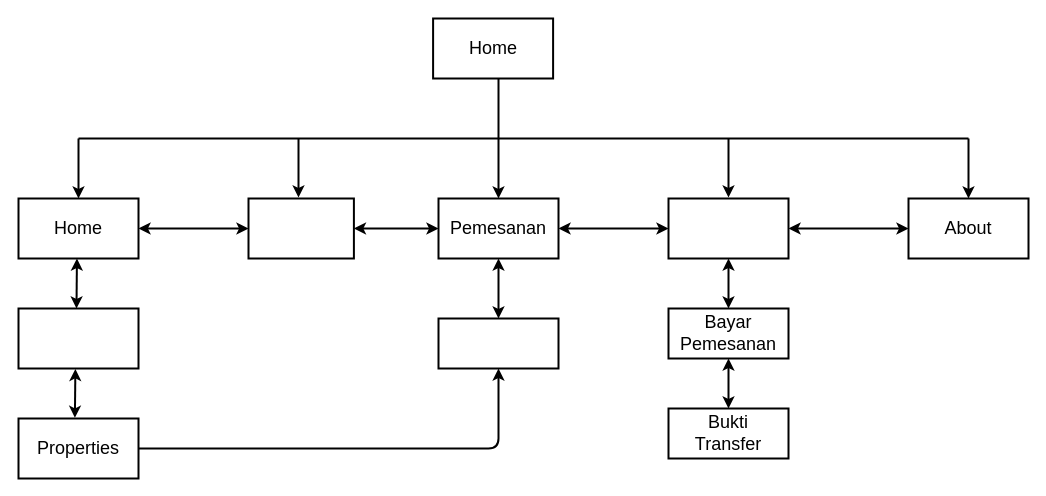
This 1046x496 diagram has some shape labels left out. Here are the shapes that lost their labels. From the top down, the centre of each, then its label:
the point at 300,228: Daftarkan
the point at 728,228: Pembayaran
the point at 78,338: Villa
the point at 498,343: Informasi Pemesanan
